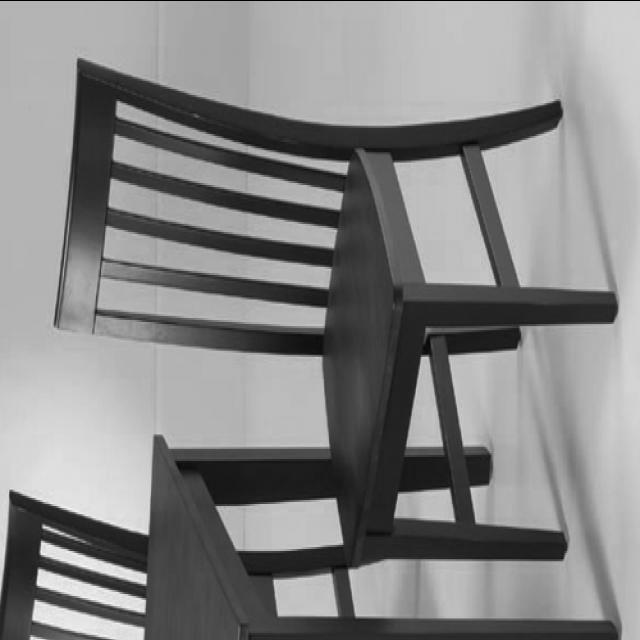chair: (49, 41, 621, 560)
